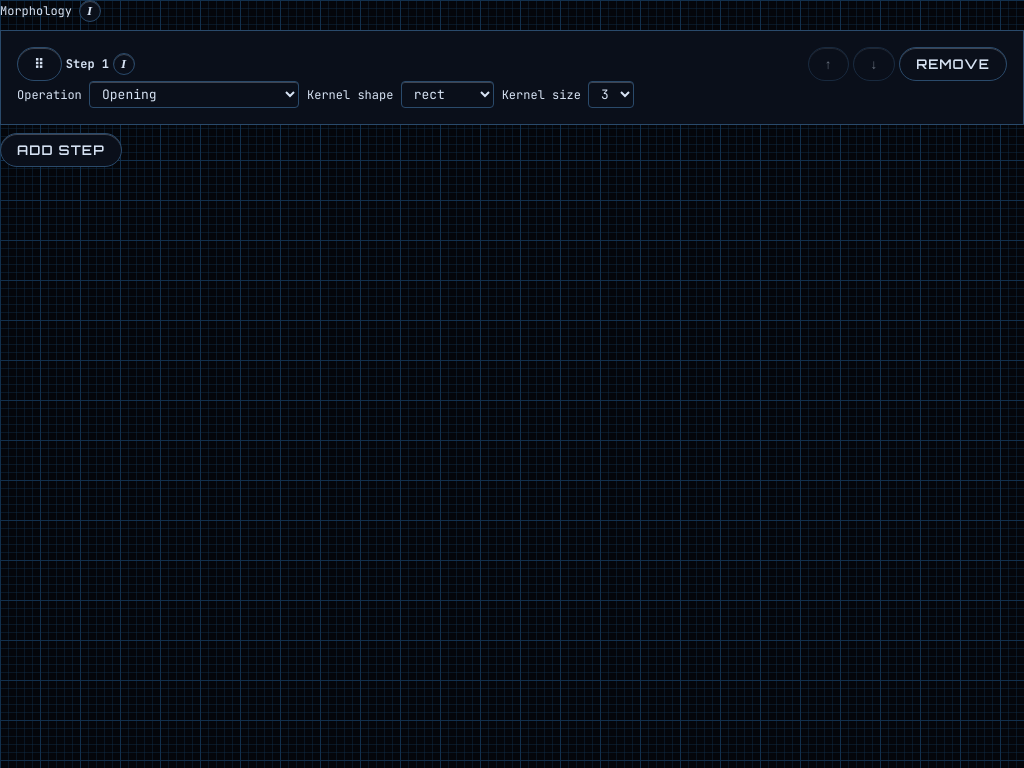
Test: MorphologyControl stack › each card is a panel and has its own (i) popup with an example image
Expected: the text "cosmic ray" is not shown
Click the button named "About Morphology step 1" at (124, 64), box [113,53,135,75]
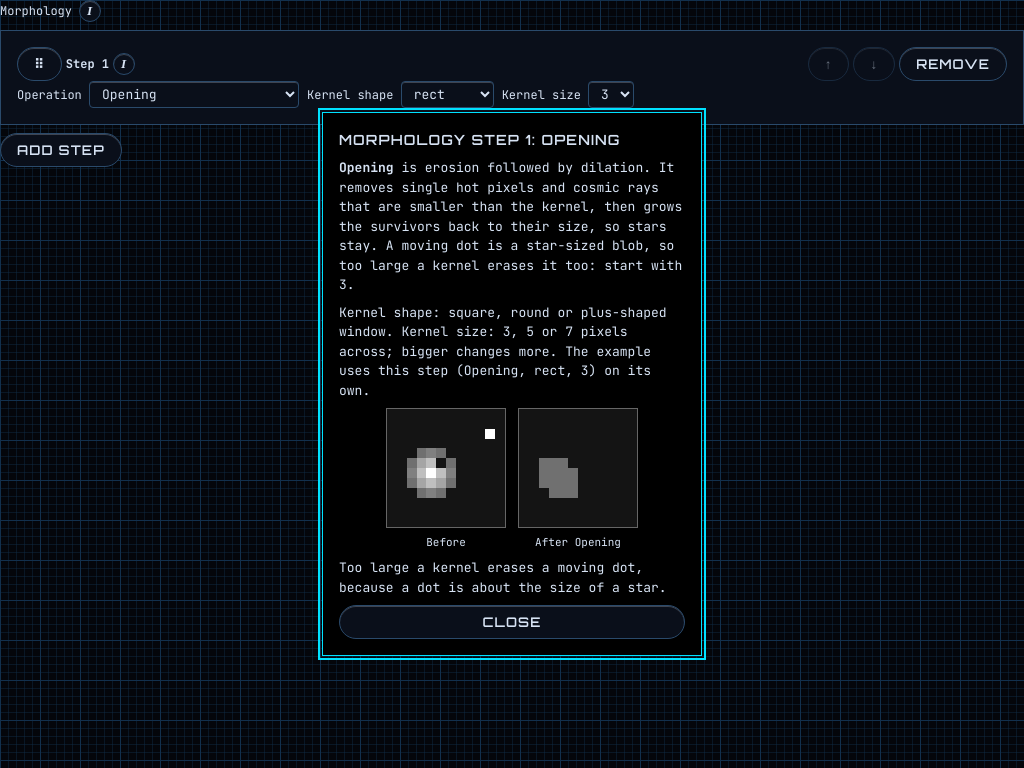
Expected: the dialog shows "cosmic ray", [339,159,682,293]
Expected: the dialog shows "too large a kernel", [339,159,682,293]
Expected: the picture named "before" is shown, [386,408,506,528]
